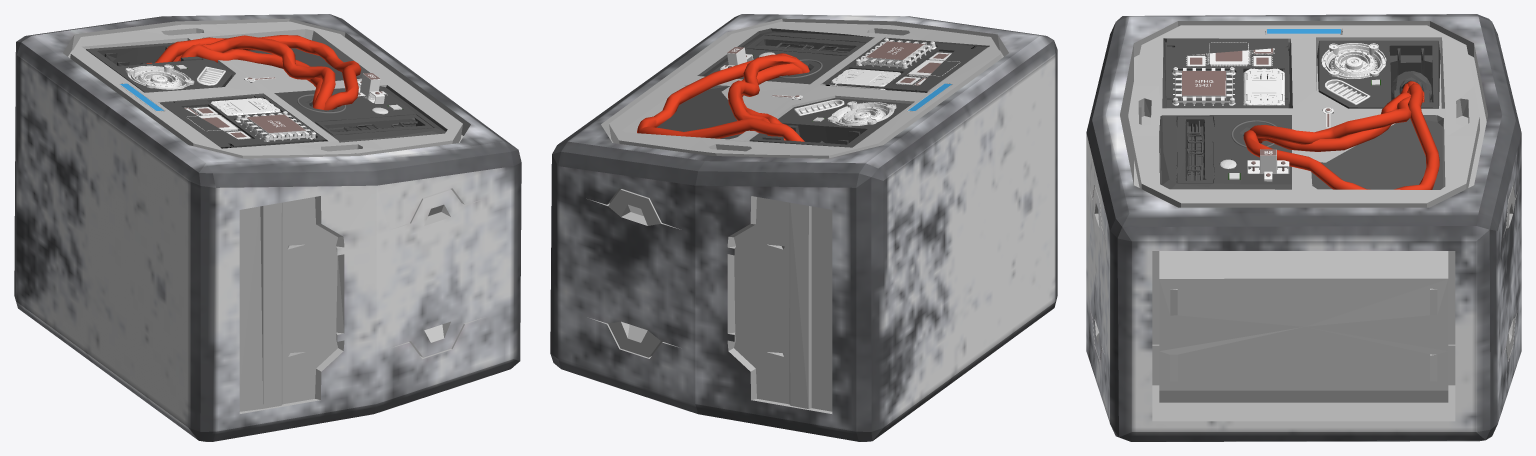
File: Console-Small.fbx
The picture shows the model from 3 angles, left to right: view 1: azimuth 30°, elevation 25°; view 2: azimuth 150°, elevation 25°; view 3: azimuth 270°, elevation 25°; orthographic projection.
Parts seen in each view (by area): view 1: Console-Small, Console-Small.1735, Console-Small.001, Console-Small.1588, Console-Small.1663, Console-Small.1665, Console-Small.296; view 2: Console-Small, Console-Small.1735, Console-Small.001, Console-Small.1588, Console-Small.1663, Console-Small.1665, Console-Small.296; view 3: Console-Small, Console-Small.1735, Console-Small.001, Console-Small.1588, Console-Small.1663, Console-Small.1665, Console-Small.296.
Part boxes in pixels (x1=…): Console-Small: x1=14, y1=14, x2=521, y2=441; Console-Small.1735: x1=146, y1=35, x2=361, y2=110; Console-Small.001: x1=160, y1=95, x2=325, y2=148; Console-Small.1588: x1=235, y1=111, x2=315, y2=141; Console-Small.1663: x1=125, y1=64, x2=194, y2=89; Console-Small.1665: x1=211, y1=98, x2=280, y2=115; Console-Small.296: x1=184, y1=107, x2=250, y2=139; Console-Small: x1=550, y1=14, x2=1057, y2=441; Console-Small.1735: x1=637, y1=53, x2=809, y2=141; Console-Small.001: x1=822, y1=39, x2=988, y2=92; Console-Small.1588: x1=856, y1=37, x2=936, y2=68; Console-Small.1663: x1=827, y1=101, x2=896, y2=126; Console-Small.1665: x1=830, y1=69, x2=900, y2=89; Console-Small.296: x1=895, y1=52, x2=960, y2=85; Console-Small: x1=1086, y1=14, x2=1521, y2=441; Console-Small.1735: x1=1243, y1=81, x2=1439, y2=189; Console-Small.001: x1=1167, y1=38, x2=1288, y2=108; Console-Small.1588: x1=1172, y1=67, x2=1235, y2=105; Console-Small.1663: x1=1321, y1=43, x2=1386, y2=78; Console-Small.1665: x1=1243, y1=68, x2=1284, y2=105; Console-Small.296: x1=1186, y1=42, x2=1274, y2=66.
Size of the model in its own units: 99.55 by 80.17 by 113.
